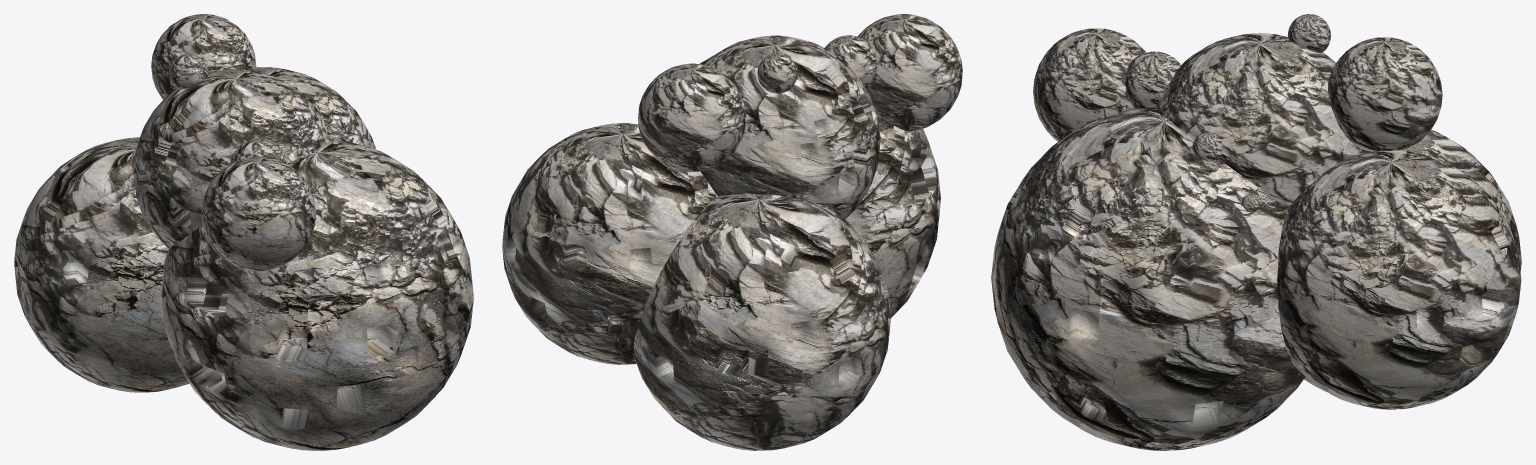
File: Pierres.fbx
3 views of the same model, side by side, from view 1: azimuth 30°, elevation 25°; view 2: azimuth 150°, elevation 25°; view 3: azimuth 270°, elevation 25° (orthographic). The views are drawn at different scales.
Visible parts, largest first — view 1: Sphere.007, Sphere.004, Sphere, Sphere.009, Sphere.005, Sphere.001, Sphere.002, Sphere.003; view 2: Sphere.004, Sphere.001, Sphere, Sphere.007, Sphere.005, Sphere.009, Sphere.003, Sphere.002; view 3: Sphere.007, Sphere.001, Sphere, Sphere.005, Sphere.009, Sphere.004, Sphere.003, Sphere.002, Sphere.006.
Boxes of the visible parts, x1,y1,x2,y2 form: Sphere.007: [161, 141, 473, 450]; Sphere.004: [14, 137, 189, 392]; Sphere: [133, 69, 329, 248]; Sphere.009: [201, 156, 315, 270]; Sphere.005: [151, 14, 256, 99]; Sphere.001: [256, 67, 375, 149]; Sphere.002: [169, 53, 208, 89]; Sphere.003: [230, 138, 287, 164]; Sphere.004: [633, 193, 890, 450]; Sphere.001: [502, 123, 717, 364]; Sphere: [700, 35, 880, 219]; Sphere.007: [699, 56, 940, 317]; Sphere.005: [638, 63, 746, 171]; Sphere.009: [857, 14, 962, 131]; Sphere.003: [824, 35, 876, 89]; Sphere.002: [757, 53, 797, 93]; Sphere.007: [991, 107, 1305, 450]; Sphere.001: [1277, 150, 1521, 409]; Sphere: [1154, 33, 1371, 208]; Sphere.005: [1328, 37, 1442, 151]; Sphere.009: [1033, 28, 1145, 141]; Sphere.004: [1304, 130, 1521, 391]; Sphere.003: [1125, 51, 1180, 108]; Sphere.002: [1287, 14, 1330, 53]; Sphere.006: [1192, 132, 1222, 160].
Size of the model in its own units: 58.23 by 56.92 by 71.13.
10 materials, 10 textured.
